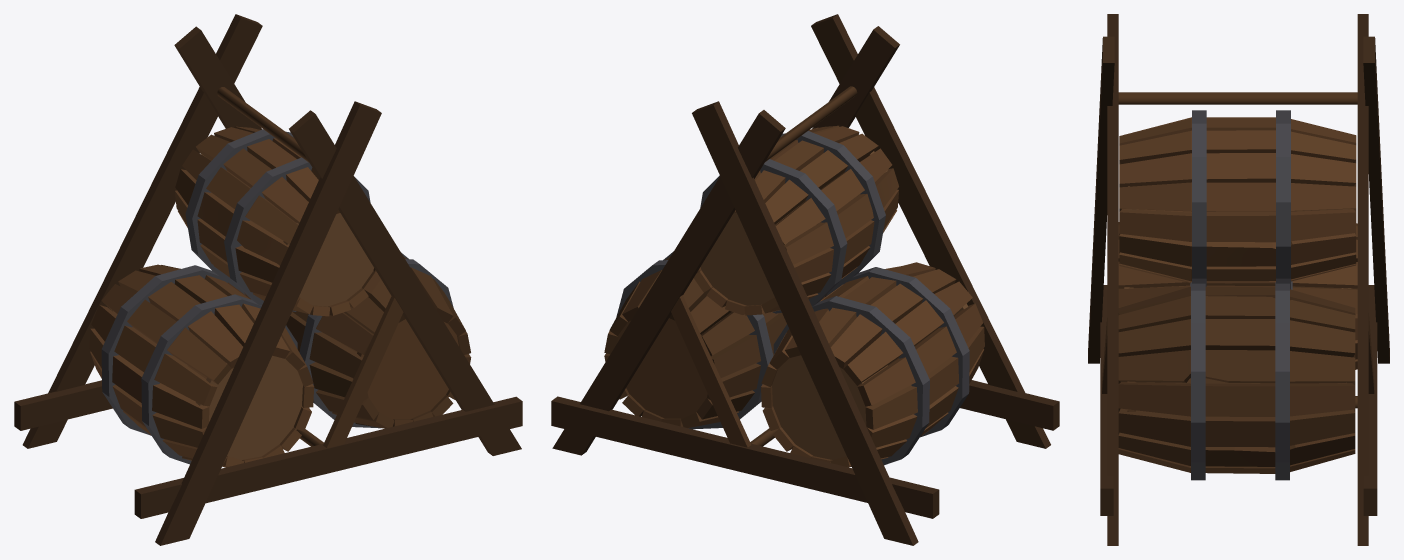
Rendered from stand_with_barrels1.fbx.
3 renders of one model, left to right at view 1: azimuth 30°, elevation 25°; view 2: azimuth 150°, elevation 25°; view 3: azimuth 270°, elevation 25°, orthographic. The views are drawn at different scales.
Parts seen in each view (by area): view 1: stand_with_barrels1; view 2: stand_with_barrels1; view 3: stand_with_barrels1.
Boxes of the visible parts, left/top/right/bottom form: stand_with_barrels1: left=14, top=14, right=522, bottom=545; stand_with_barrels1: left=551, top=14, right=1059, bottom=545; stand_with_barrels1: left=1088, top=14, right=1389, bottom=545.
Bounding box in the file's own units: 367 × 352 × 228.
